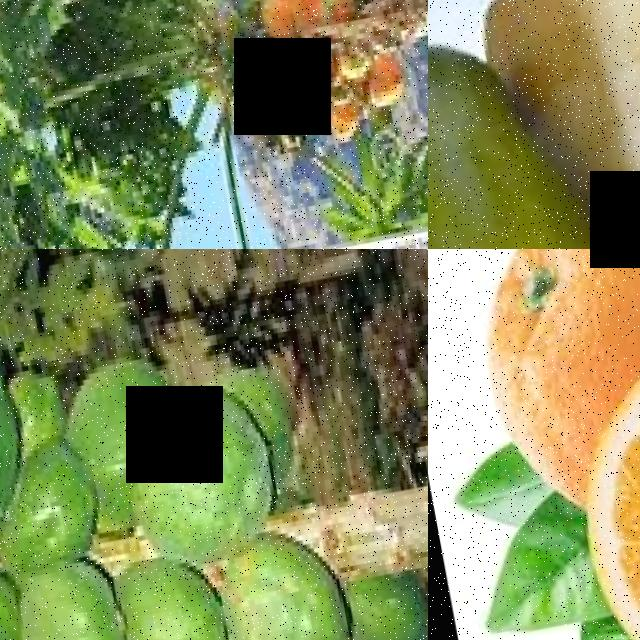orange: (556, 283, 640, 640), (457, 249, 640, 365)
pawpaw: (428, 10, 640, 249), (116, 374, 286, 564), (217, 541, 360, 640), (111, 550, 237, 640), (45, 591, 135, 640)
